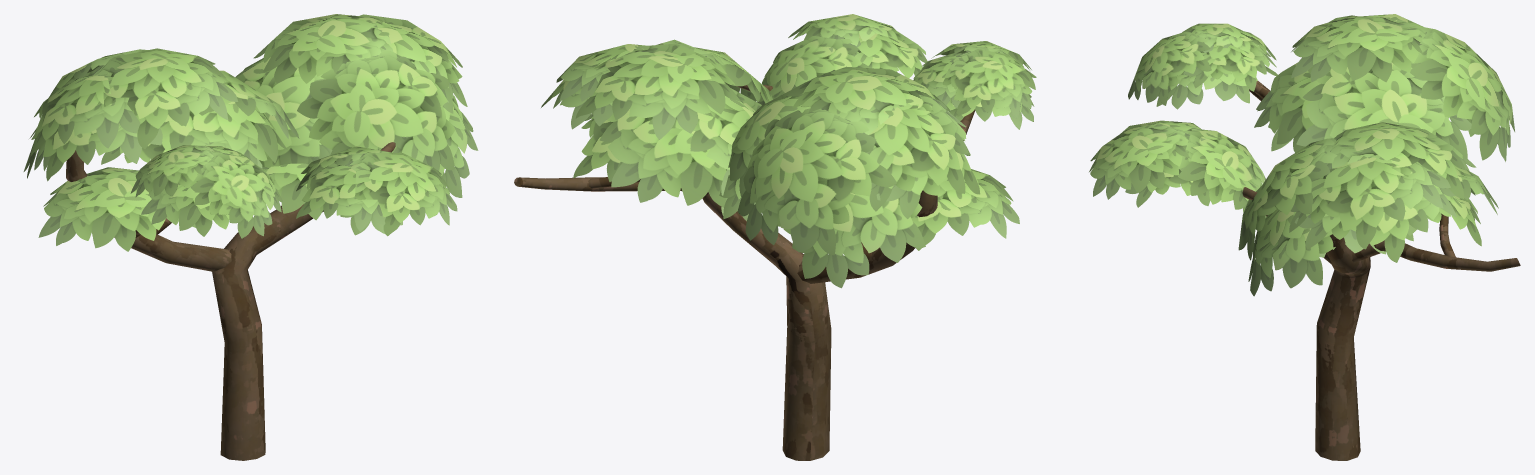
File: Tree_4.gltf
The picture shows the model from 3 angles, left to right: view 1: azimuth 30°, elevation 25°; view 2: azimuth 150°, elevation 25°; view 3: azimuth 270°, elevation 25°; orthographic projection. The views are drawn at different scales.
Visible parts, largest first — view 1: Tree_4; view 2: Tree_4; view 3: Tree_4.
Part boxes in pixels (left/top/right/bottom): Tree_4: left=23, top=14, right=478, bottom=460; Tree_4: left=514, top=14, right=1036, bottom=460; Tree_4: left=1089, top=14, right=1520, bottom=460.
Bounding box in the file's own units: 6.27 × 5.33 × 5.46.
2 materials, 2 textured.
